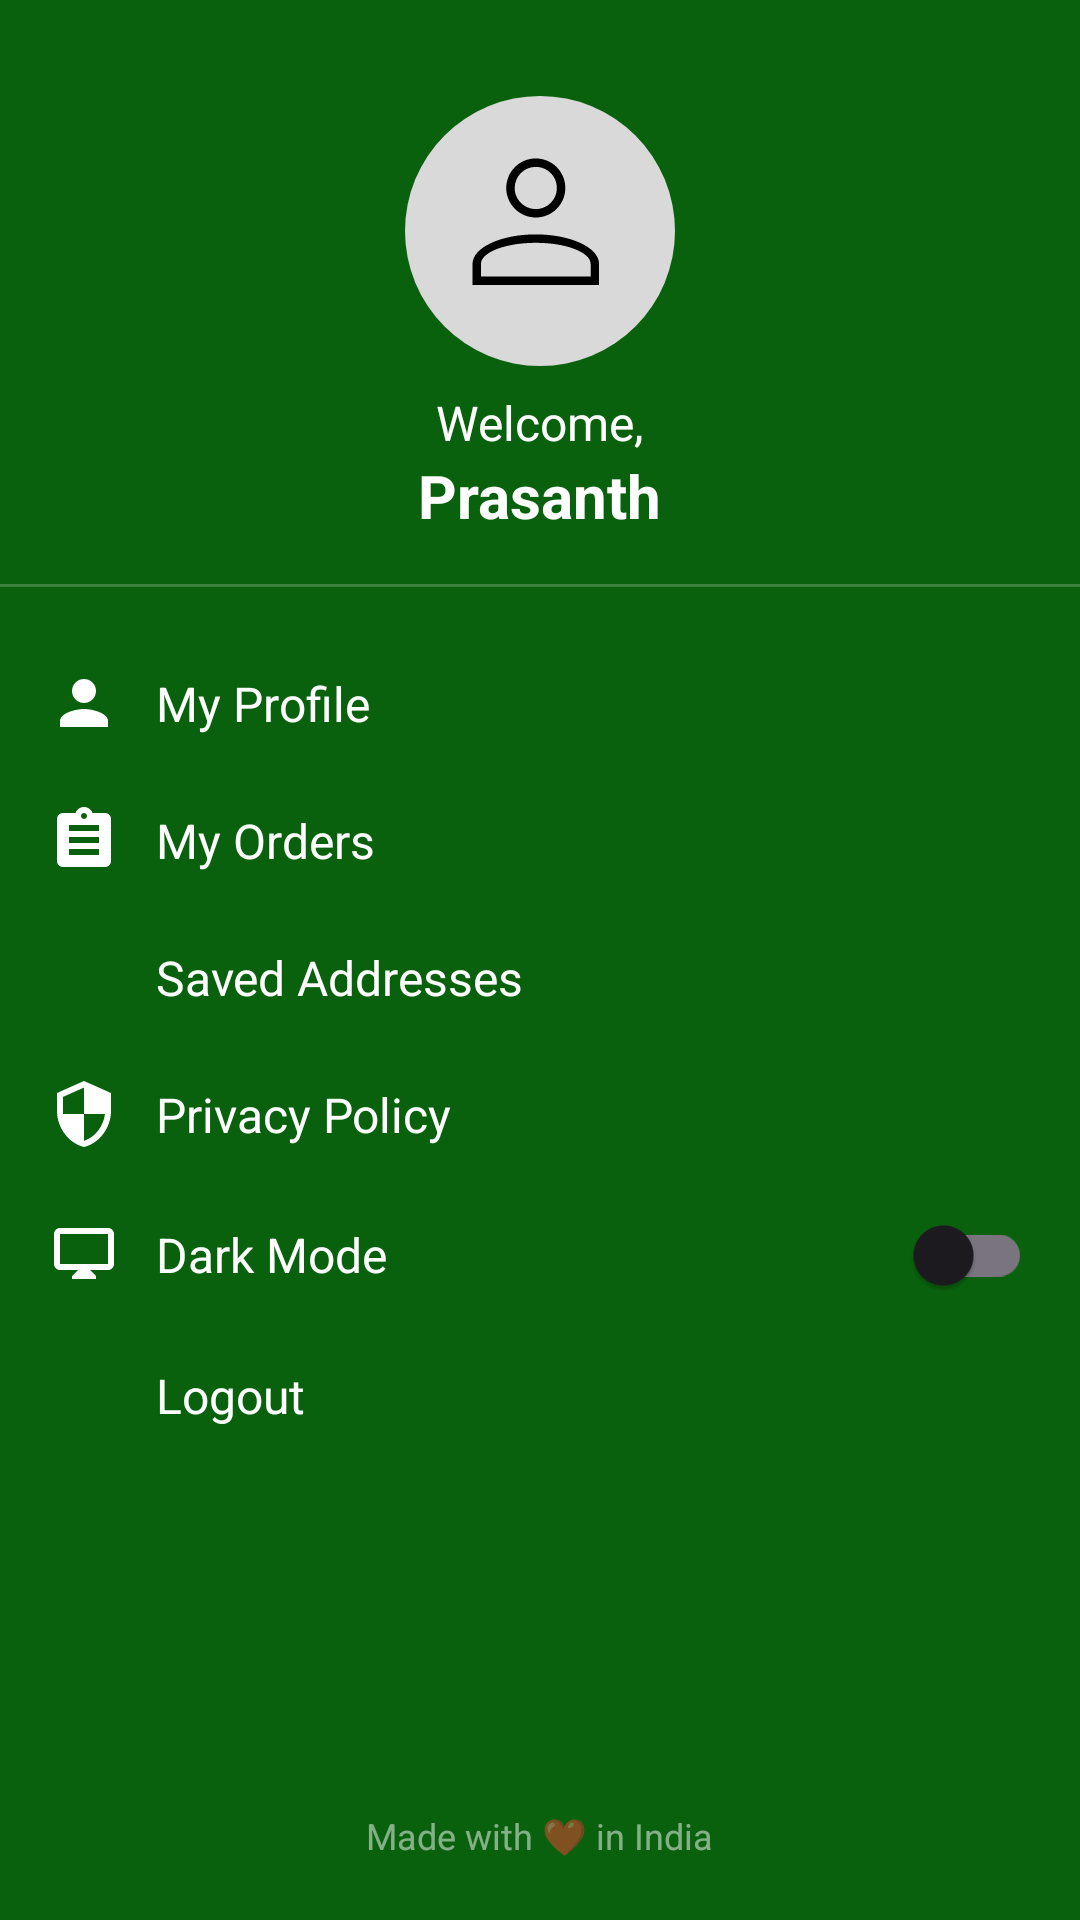

Icons on this 1080 x 1920 Android screen, each with its box as Rect(x1, y1, x2, y2):
display: Rect(54, 1228, 114, 1279)
person: Rect(60, 679, 108, 727)
user: Rect(405, 96, 675, 366)
